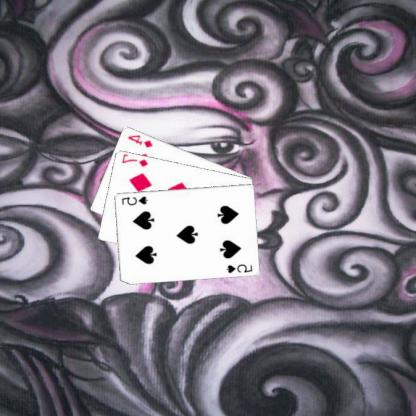4D: (127, 132, 156, 149)
5S: (121, 193, 150, 207), (225, 261, 255, 274)
7D: (121, 152, 151, 168)
